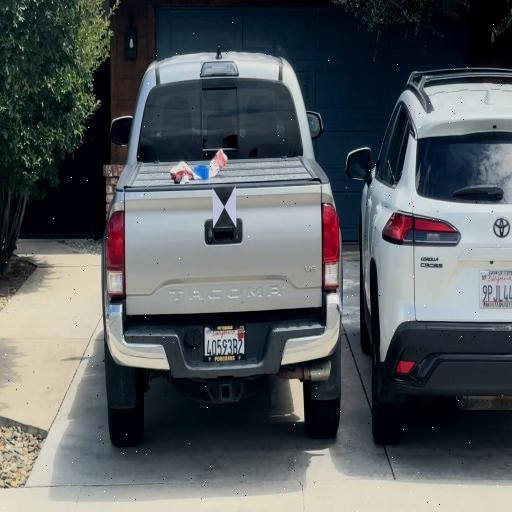target: (212, 187, 236, 227)
